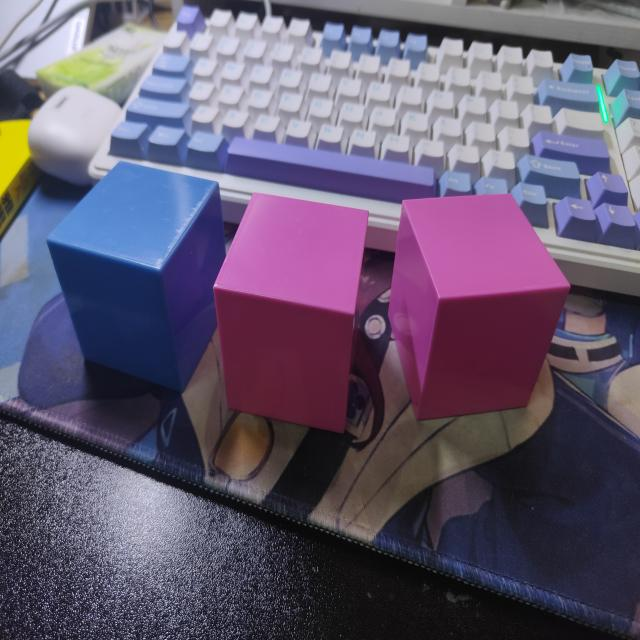blue: (45, 161, 227, 399)
pink: (391, 194, 570, 427), (213, 194, 370, 434)
